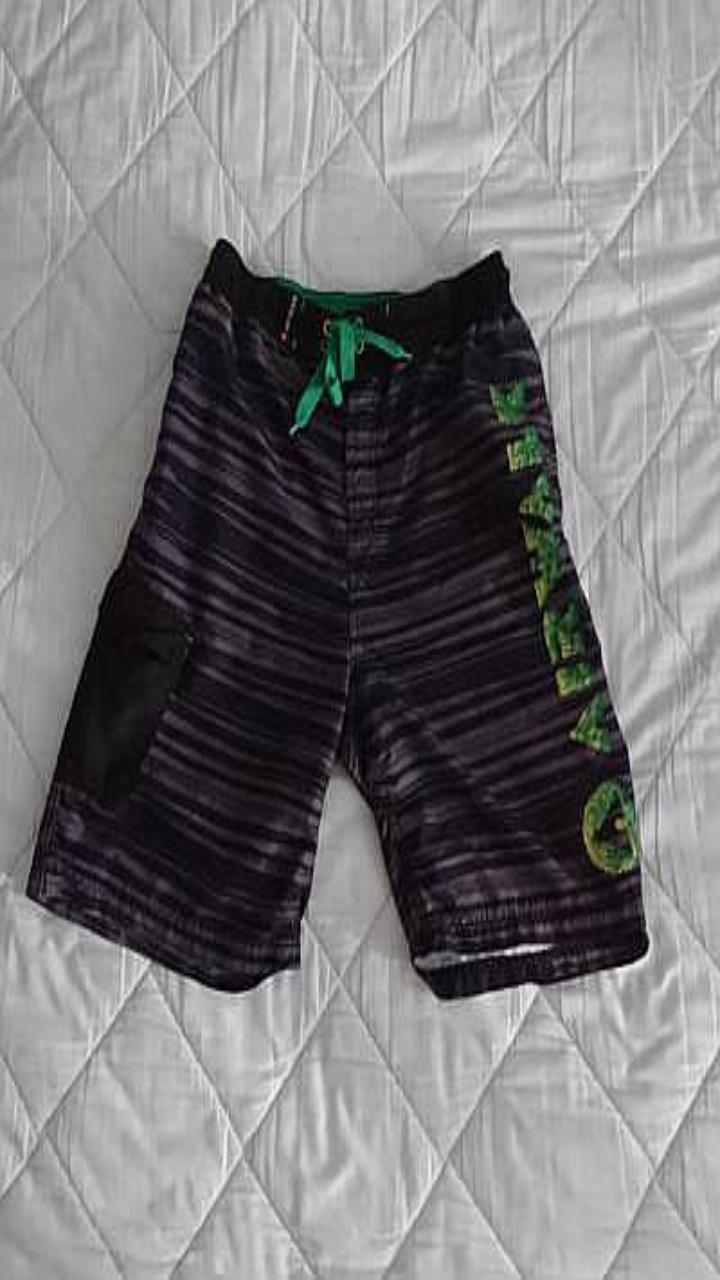Shorts: (26, 240, 648, 997)
